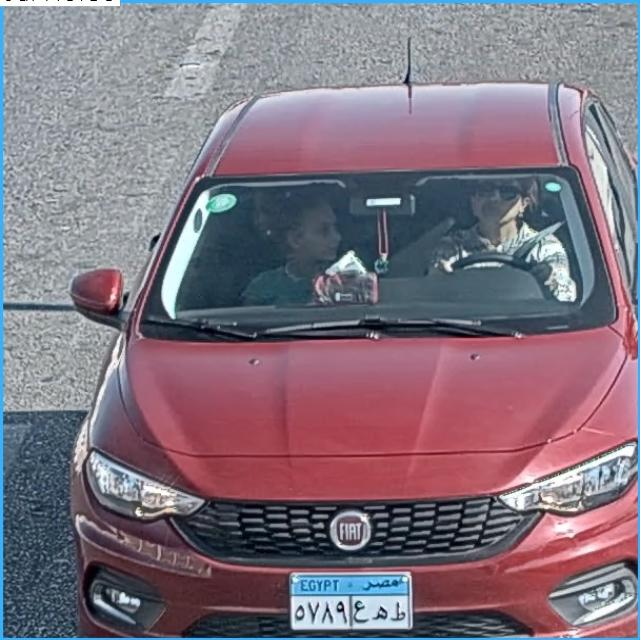windshield: (154, 177, 608, 331)
